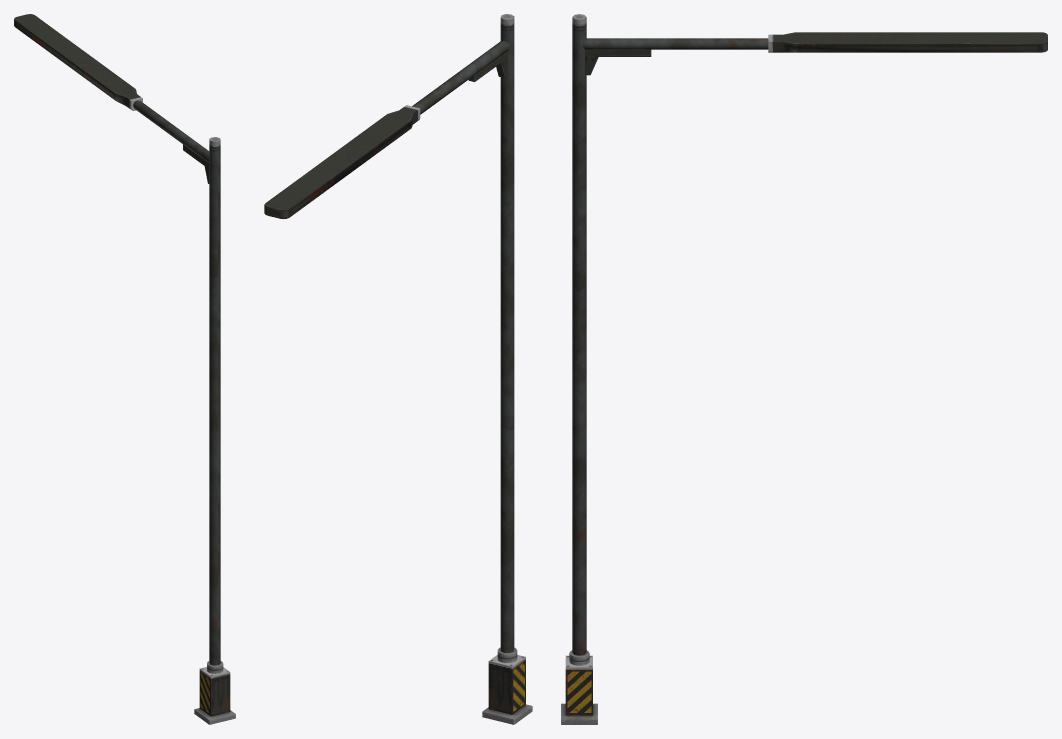
File: CP_Street_Lamp_01.fbx
3 views of the same model, side by side, from view 1: azimuth 30°, elevation 25°; view 2: azimuth 150°, elevation 25°; view 3: azimuth 270°, elevation 25° (orthographic). The views are drawn at different scales.
Visible parts, largest first — view 1: CP_Street_Lamp_01_LOD0; view 2: CP_Street_Lamp_01_LOD0; view 3: CP_Street_Lamp_01_LOD0.
Part boxes in pixels (left/top/right/bottom): CP_Street_Lamp_01_LOD0: left=14, top=14, right=235, bottom=724; CP_Street_Lamp_01_LOD0: left=264, top=14, right=532, bottom=724; CP_Street_Lamp_01_LOD0: left=561, top=14, right=1047, bottom=724.
Size of what is drawn, in the model's own units: 24.93 by 522 by 329.
